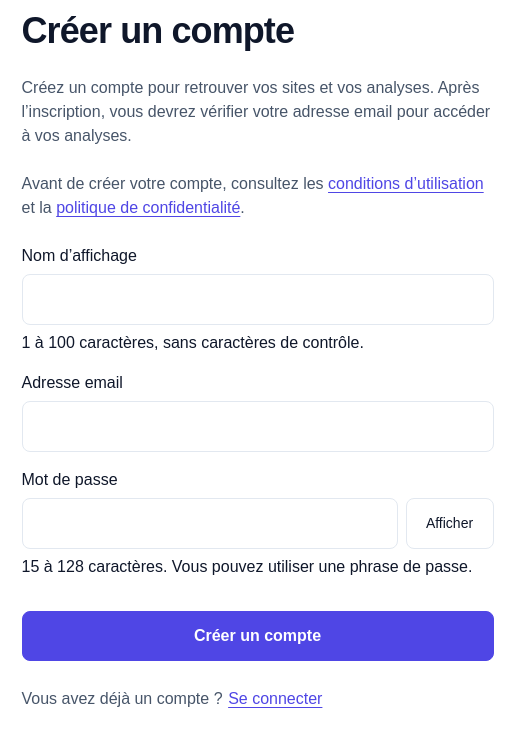
Test: registration through the browser client in fr › recovers from rate_limited without resubmitting automatically
Type "Synthetic user" into the field labelled "Nom d’affichage" at [258, 300], box [22,274,494,325]
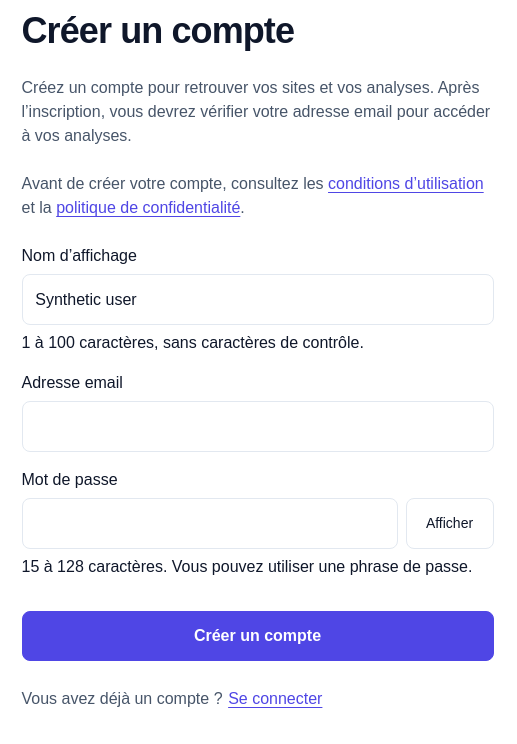
Type "fixture@example.invalid" into the field labelled "Adresse email" at [258, 426], box [22,401,494,452]
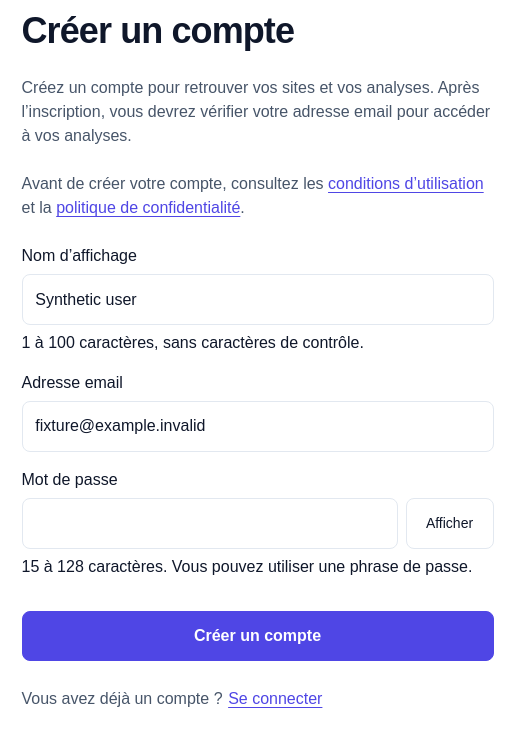
Type "  🔐 a synthetic passphrase  " into the password field labelled "Mot de passe" at [210, 524], box [22,498,398,549]
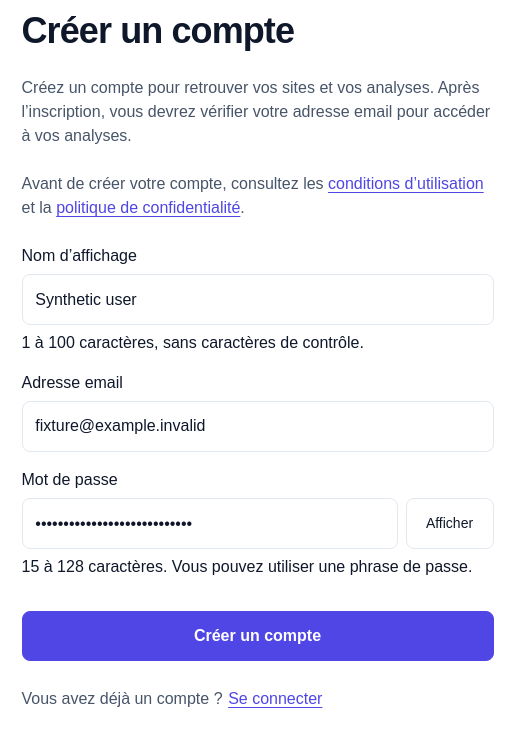
Submit the form named "Créer un compte", box [22,244,494,661]
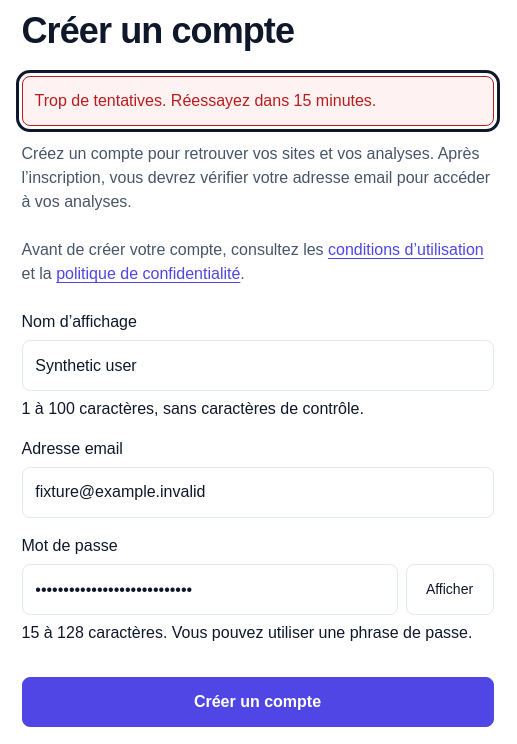
Check: the field labelled "Nom d’affichage" is enabled, box [22,340,494,391]
Check: the text "Trop de tentatives. Réessayez dans 15 minutes." is shown, box [22,76,494,126]
Submit the form named "Créer un compte", box [22,310,494,727]
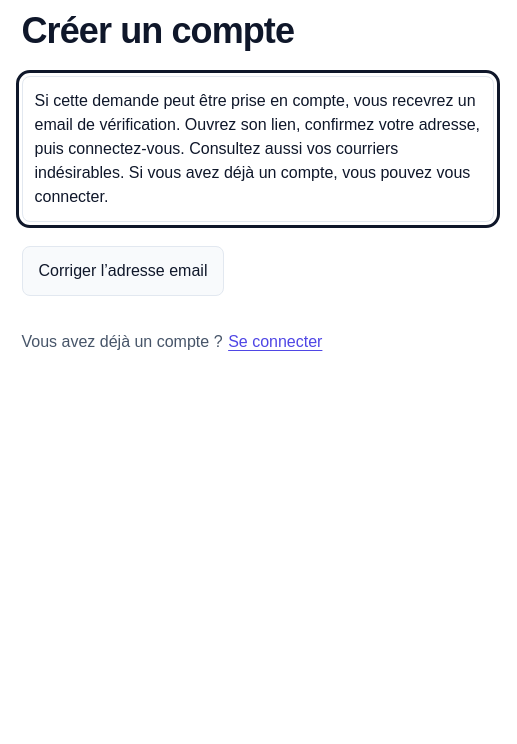
Check: the text "Si cette demande peut être prise en compte, vous recevrez un email de vérification. Ouvrez son lien, confirmez votre adr" is shown, box [34,92,480,205]
